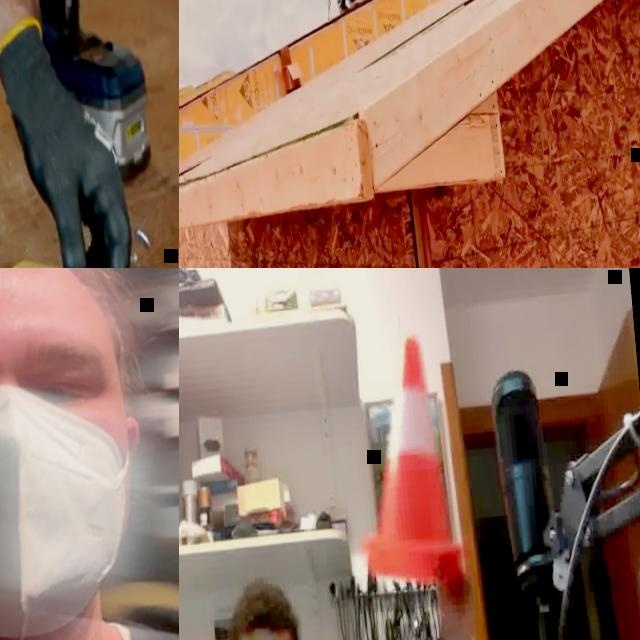Mask: (0, 381, 142, 640)
NO-Hardhat: (0, 268, 118, 342), (226, 579, 300, 640)
Person: (0, 268, 179, 640), (0, 0, 152, 268), (179, 557, 493, 640)
Safety Cone: (344, 329, 468, 591)
